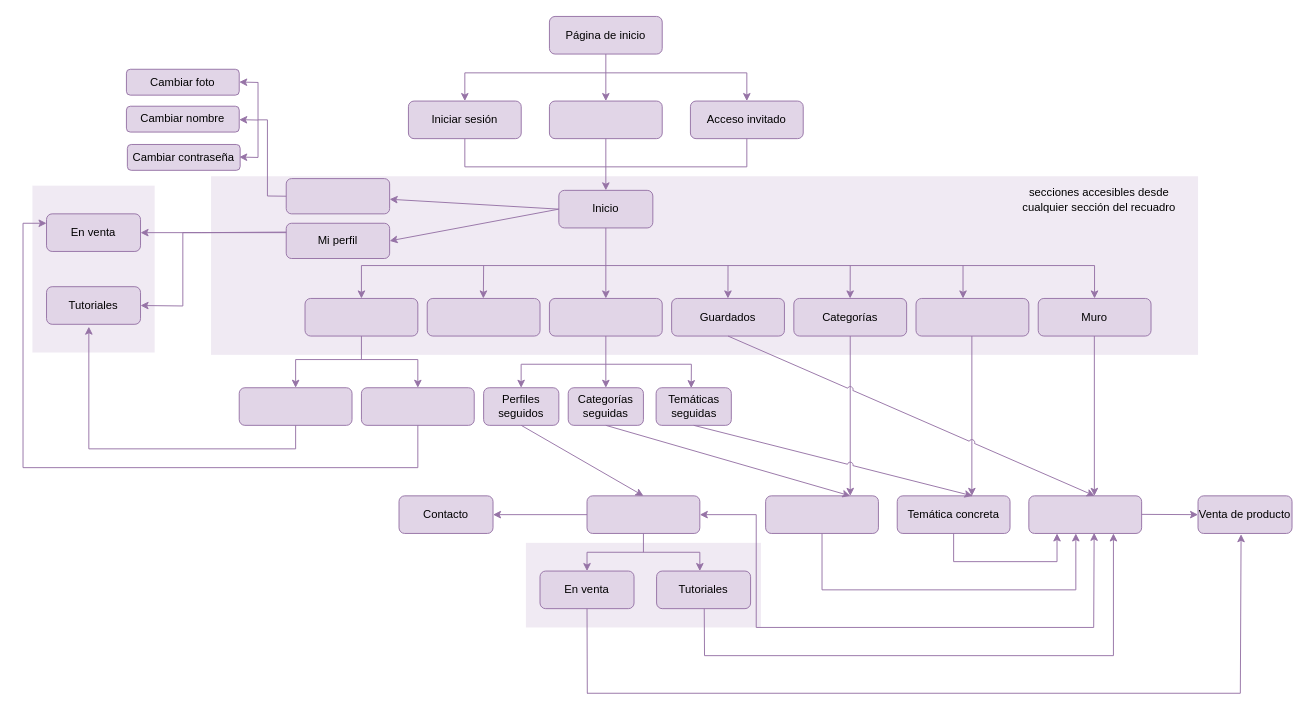
Some shapes in this 1308 by 717 pixel diagram are drawn without their labels. Each missing label, with the box of its shape:
Categoría concreta: (765, 495, 878, 533)
Configuración: (285, 178, 390, 214)
Crear cuenta: (548, 100, 662, 139)
Producto directo: (360, 387, 474, 425)
Publicar: (304, 298, 418, 336)
Siguiendo: (548, 298, 662, 336)
Temáticas: (915, 298, 1029, 336)
Tendencias: (426, 298, 540, 336)
Tutorial: (238, 387, 352, 425)
Ver perfil ajeno: (586, 495, 700, 533)
Ver tutorial: (1028, 495, 1142, 533)
